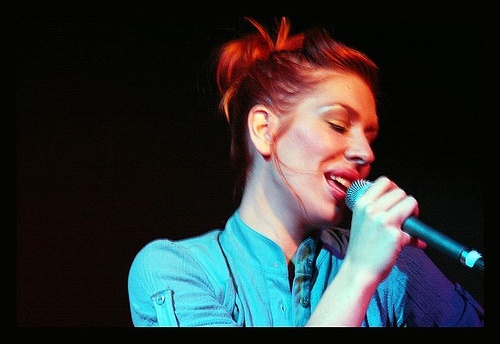head: (241, 13, 382, 232)
person: (135, 14, 464, 329)
